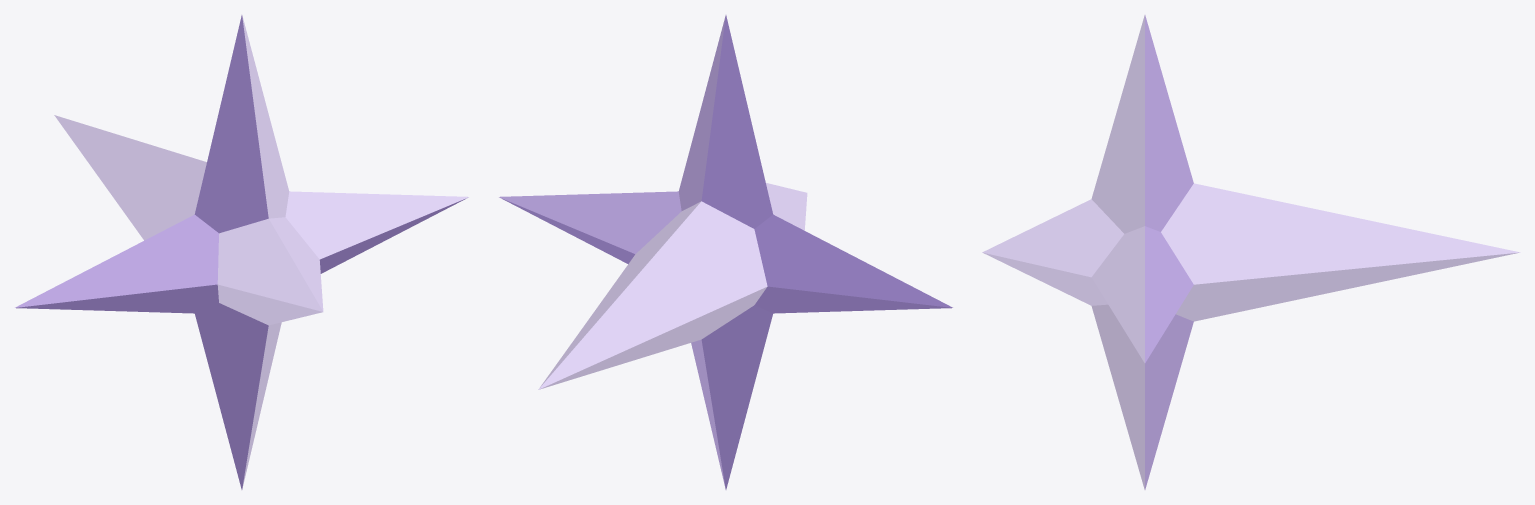
Rendered from proj_warpshot.glb.
3 renders of one model, left to right at view 1: azimuth 30°, elevation 25°; view 2: azimuth 150°, elevation 25°; view 3: azimuth 270°, elevation 25°, orthographic.
Visible parts, largest first — view 1: Proj_spike_v, Proj_spike_h, Proj_spike_y; view 2: Proj_spike_y, Proj_spike_v, Proj_spike_h; view 3: Proj_spike_y, Proj_spike_v, Proj_spike_h.
Boxes of the visible parts, <box> form: Proj_spike_v: <box>194,15,289,489</box>; Proj_spike_h: <box>15,191,468,313</box>; Proj_spike_y: <box>54,115,323,325</box>; Proj_spike_y: <box>538,183,807,389</box>; Proj_spike_v: <box>678,15,773,489</box>; Proj_spike_h: <box>499,191,952,313</box>; Proj_spike_y: <box>982,183,1520,321</box>; Proj_spike_v: <box>1091,15,1193,489</box>; Proj_spike_h: <box>1091,226,1193,362</box>.
Size of the model in its own units: 0.42 by 0.42 by 0.43.
